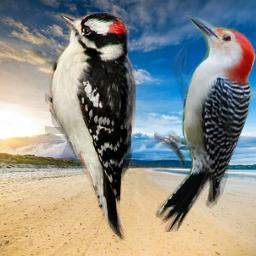Woodpecker: (154, 15, 256, 232), (45, 12, 136, 241)
